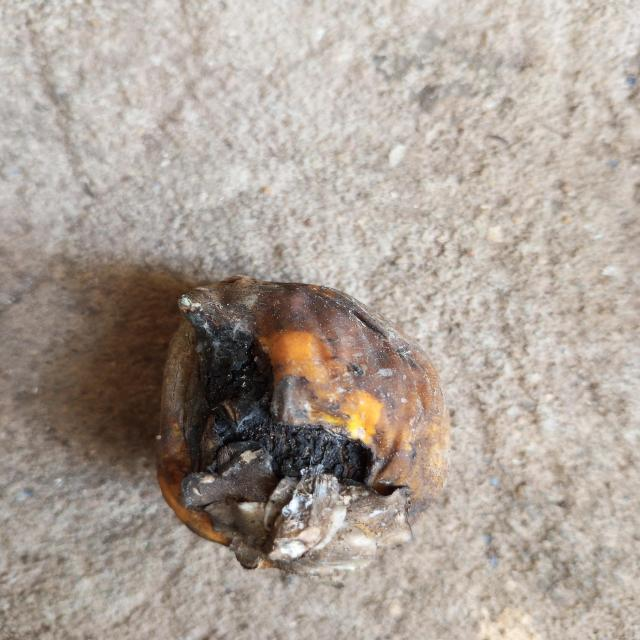damaged: (157, 276, 449, 579)
